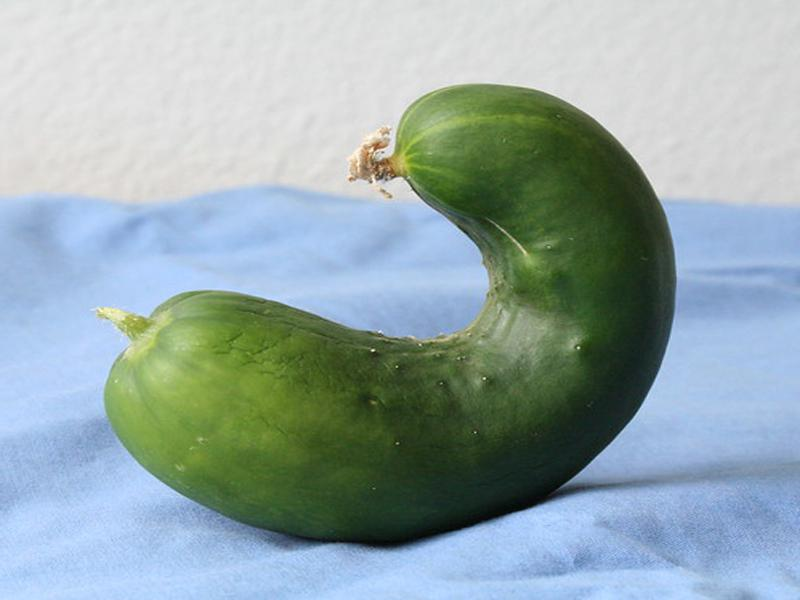Cucumber: (103, 82, 677, 543)
